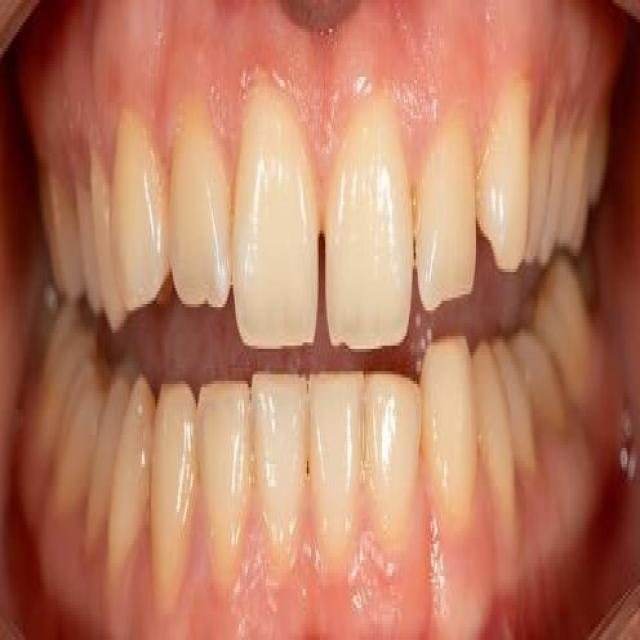1st Molar: (55, 361, 108, 510), (512, 333, 569, 435), (44, 176, 85, 298), (561, 130, 597, 252)
1st Premolar: (472, 333, 519, 550), (108, 373, 156, 579), (91, 163, 122, 331), (528, 99, 557, 262)
2nd Molar: (527, 253, 594, 400), (36, 304, 93, 435), (591, 118, 611, 202)
2nd Premolar: (490, 331, 537, 480), (86, 386, 128, 544), (79, 182, 102, 310), (543, 138, 565, 260)
Canine: (109, 112, 170, 314), (476, 60, 532, 275), (421, 336, 476, 546), (151, 384, 199, 611)
Central Incisor: (232, 77, 320, 352), (326, 96, 414, 349), (250, 374, 310, 586), (308, 374, 367, 585)
Lateral Incisor: (169, 83, 234, 307), (414, 112, 477, 314), (196, 380, 253, 598), (367, 374, 422, 559)
